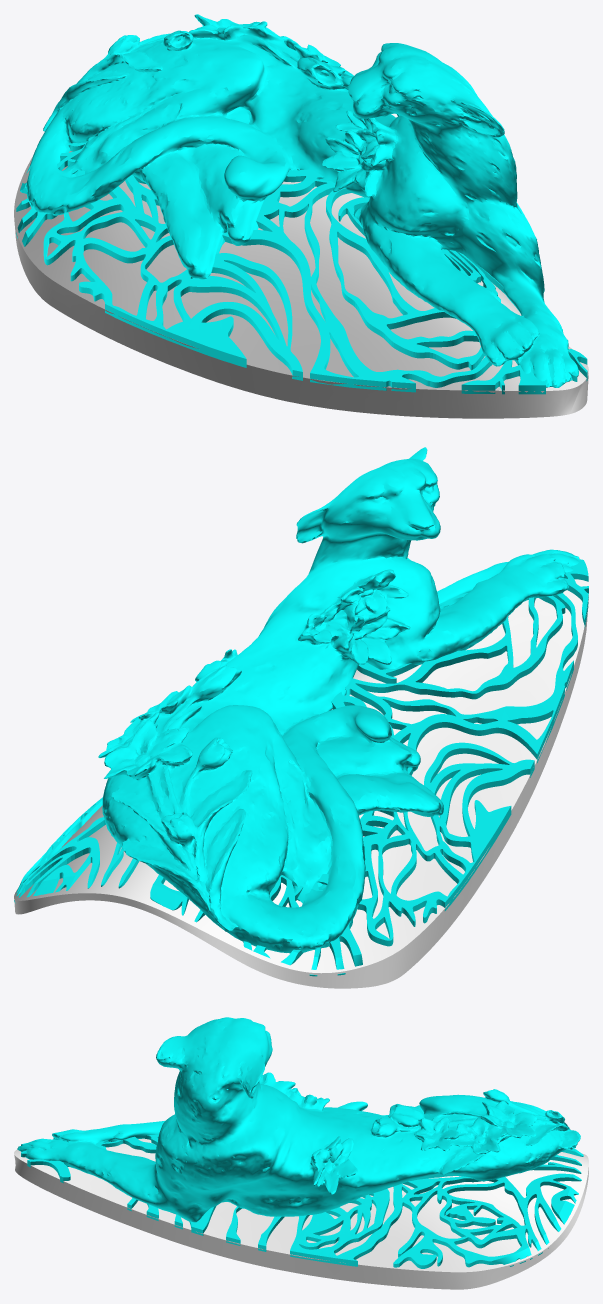
File: leopard-rose-stiletto-web.glb
3 renders of one model, top to bottom at view 1: azimuth 30°, elevation 25°; view 2: azimuth 150°, elevation 25°; view 3: azimuth 270°, elevation 25°, orthographic. The views are drawn at different scales.
Bounding box in the file's own units: 0.0139 × 0.0125 × 0.0301.
